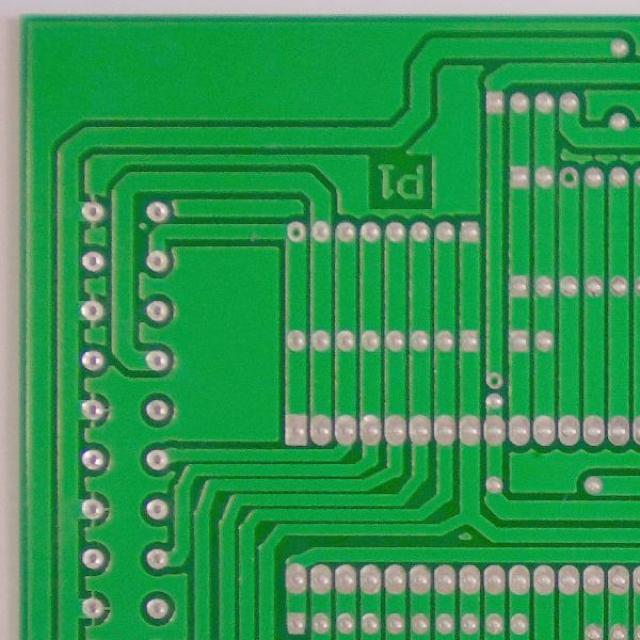Missing_Hole: (557, 165, 581, 189), (284, 219, 307, 244), (483, 370, 505, 391)
